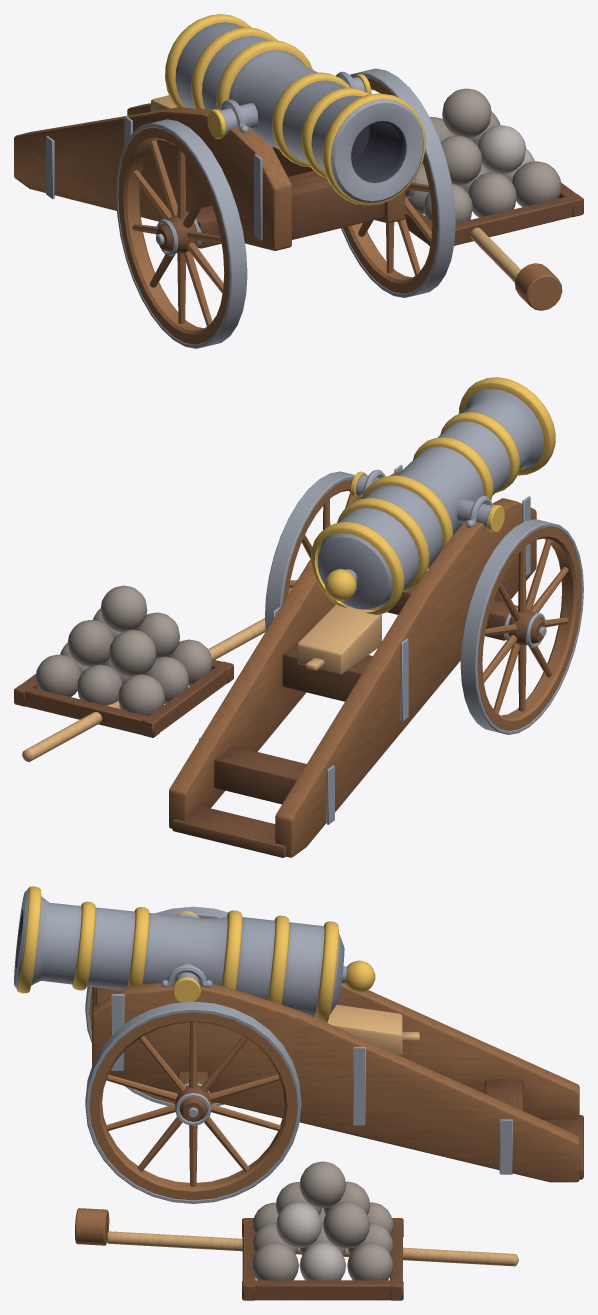
File: cannon.glb
3 renders of one model, top to bottom at view 1: azimuth 30°, elevation 25°; view 2: azimuth 150°, elevation 25°; view 3: azimuth 270°, elevation 25°, orthographic. The views are drawn at different scales.
Visible parts, largest first — view 1: medieval-cannon_body, medieval-cannon_barrel, medieval-cannon_wheel_left, medieval-cannon_wheel_right, medieval-cannon_ironwork; view 2: medieval-cannon_body, medieval-cannon_barrel, medieval-cannon_wheel_left, medieval-cannon_wheel_right, medieval-cannon_ironwork; view 3: medieval-cannon_body, medieval-cannon_barrel, medieval-cannon_wheel_right, medieval-cannon_ironwork, medieval-cannon_wheel_left.
Part boxes in pixels (x1=…): medieval-cannon_body: x1=14, y1=88, x2=583, y2=310; medieval-cannon_barrel: x1=165, y1=14, x2=425, y2=205; medieval-cannon_wheel_left: x1=116, y1=119, x2=247, y2=348; medieval-cannon_wheel_right: x1=341, y1=68, x2=455, y2=297; medieval-cannon_ironwork: x1=46, y1=71, x2=356, y2=240; medieval-cannon_body: x1=14, y1=472, x2=536, y2=857; medieval-cannon_barrel: x1=310, y1=377, x2=555, y2=614; medieval-cannon_wheel_left: x1=460, y1=519, x2=583, y2=734; medieval-cannon_wheel_right: x1=265, y1=471, x2=354, y2=631; medieval-cannon_ironwork: x1=199, y1=465, x2=530, y2=824; medieval-cannon_body: x1=75, y1=982, x2=583, y2=1300; medieval-cannon_barrel: x1=14, y1=886, x2=375, y2=1022; medieval-cannon_wheel_right: x1=85, y1=1001, x2=301, y2=1203; medieval-cannon_ironwork: x1=111, y1=913, x2=512, y2=1174; medieval-cannon_wheel_left: x1=85, y1=906, x2=228, y2=1105.
Size of the model in its own units: 2.26 by 1.34 by 2.64.
6 materials, 2 textured.
